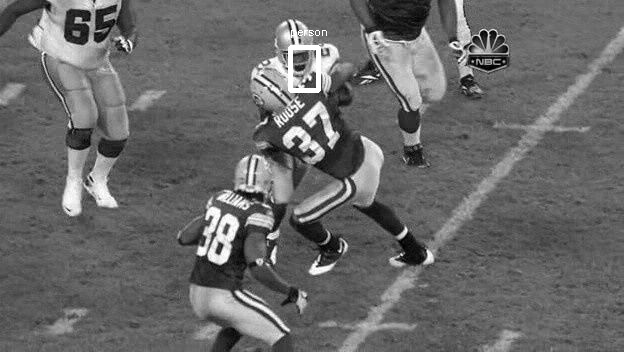person: (277, 26, 315, 74), (276, 26, 314, 74), (278, 26, 316, 74), (277, 25, 315, 73), (277, 27, 315, 75)
target_negative: (371, 80, 620, 311), (384, 63, 512, 301), (600, 203, 615, 346), (600, 166, 618, 254), (610, 26, 619, 109), (597, 272, 611, 283)
